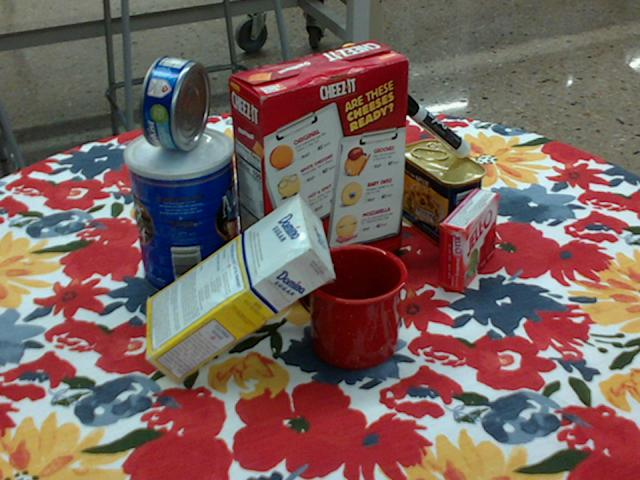cracker_box: (227, 41, 409, 297)
gelatin_box: (438, 187, 498, 292)
large_marker: (393, 91, 470, 157)
master_chef_can: (126, 126, 239, 300)
mug: (295, 242, 408, 369)
mustard_bottle: (321, 44, 386, 223)
potted_meat_can: (400, 139, 486, 248)
sugar_box: (144, 195, 334, 387)
tomato_soup_can: (236, 115, 300, 222)
tuna_fish_can: (140, 55, 208, 150)
